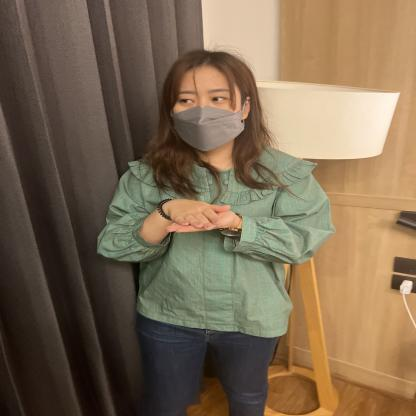Love: (101, 162, 285, 298)
